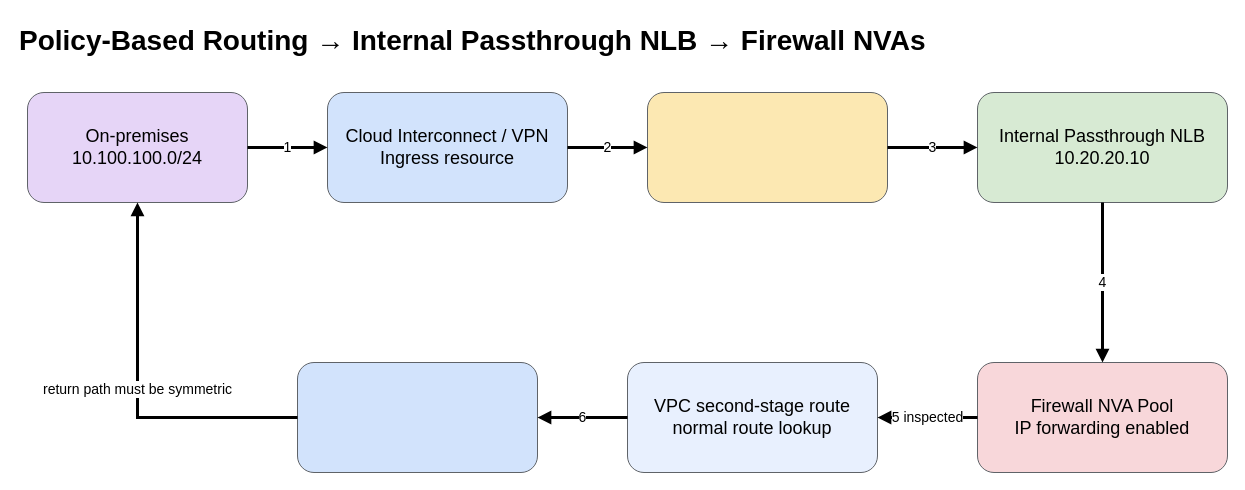
Image size: 1245x490. Some labels were removed from this diagram. Here are the shapes that lost their labels. From the top down, the centre of each, then its label:
[767,147]: Policy-Based Route src/dst/protocol match
[417,417]: Workload Subnet 10.20.10.0/24
